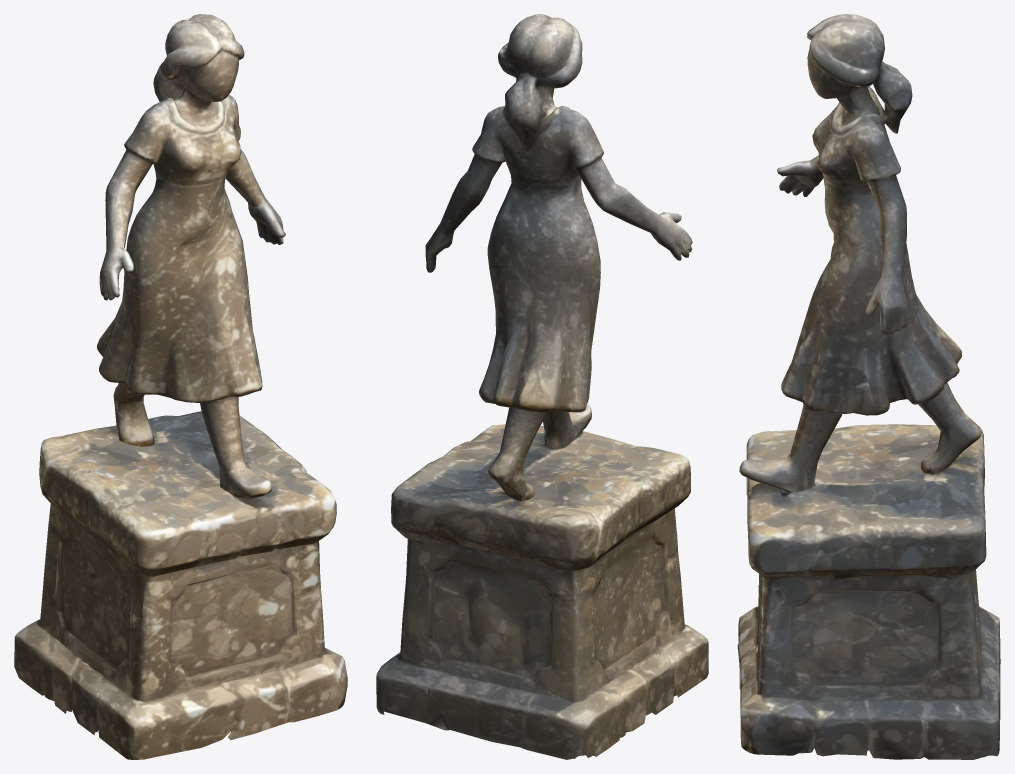
The model's file is willing-girl.glb.
The picture shows the model from 3 angles, left to right: view 1: azimuth 30°, elevation 25°; view 2: azimuth 150°, elevation 25°; view 3: azimuth 270°, elevation 25°; orthographic projection. The views are drawn at different scales.
Bounding box in the file's own units: 1.11 × 3.2 × 1.1.
1 material, 1 textured.
